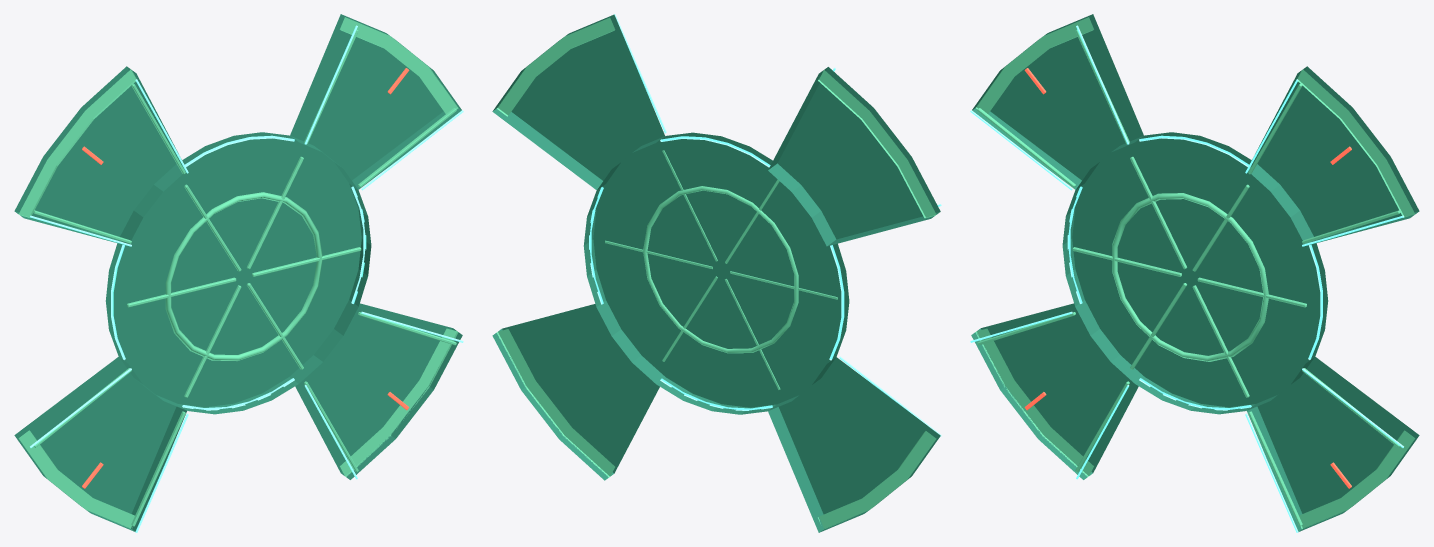
The model's file is bio-panel-fun6-low.glb.
3 renders of one model, left to right at view 1: azimuth 30°, elevation 25°; view 2: azimuth 150°, elevation 25°; view 3: azimuth 330°, elevation 25°, orthographic.
Parts seen in each view (by area): view 1: RENDER_PANEL_SHELL, RENDER_PANEL_FRAME, RENDER_PANEL_SIGNAL, RENDER_PANEL_HAZARD; view 2: RENDER_PANEL_SHELL, RENDER_PANEL_FRAME, RENDER_PANEL_SIGNAL; view 3: RENDER_PANEL_SHELL, RENDER_PANEL_FRAME, RENDER_PANEL_SIGNAL, RENDER_PANEL_HAZARD.
Boxes of the visible parts, x1=… form: RENDER_PANEL_SHELL: x1=14, y1=14, x2=462, y2=531; RENDER_PANEL_FRAME: x1=18, y1=17, x2=458, y2=528; RENDER_PANEL_SIGNAL: x1=30, y1=25, x2=463, y2=532; RENDER_PANEL_HAZARD: x1=82, y1=68, x2=409, y2=488; RENDER_PANEL_SHELL: x1=492, y1=14, x2=940, y2=532; RENDER_PANEL_FRAME: x1=496, y1=17, x2=936, y2=529; RENDER_PANEL_SIGNAL: x1=589, y1=14, x2=941, y2=436; RENDER_PANEL_SHELL: x1=971, y1=14, x2=1419, y2=531; RENDER_PANEL_FRAME: x1=975, y1=17, x2=1415, y2=529; RENDER_PANEL_SIGNAL: x1=970, y1=25, x2=1403, y2=532; RENDER_PANEL_HAZARD: x1=1024, y1=68, x2=1351, y2=488.
Size of what is drawn, in the model's own units: 36.85 by 36.85 by 1.95.
